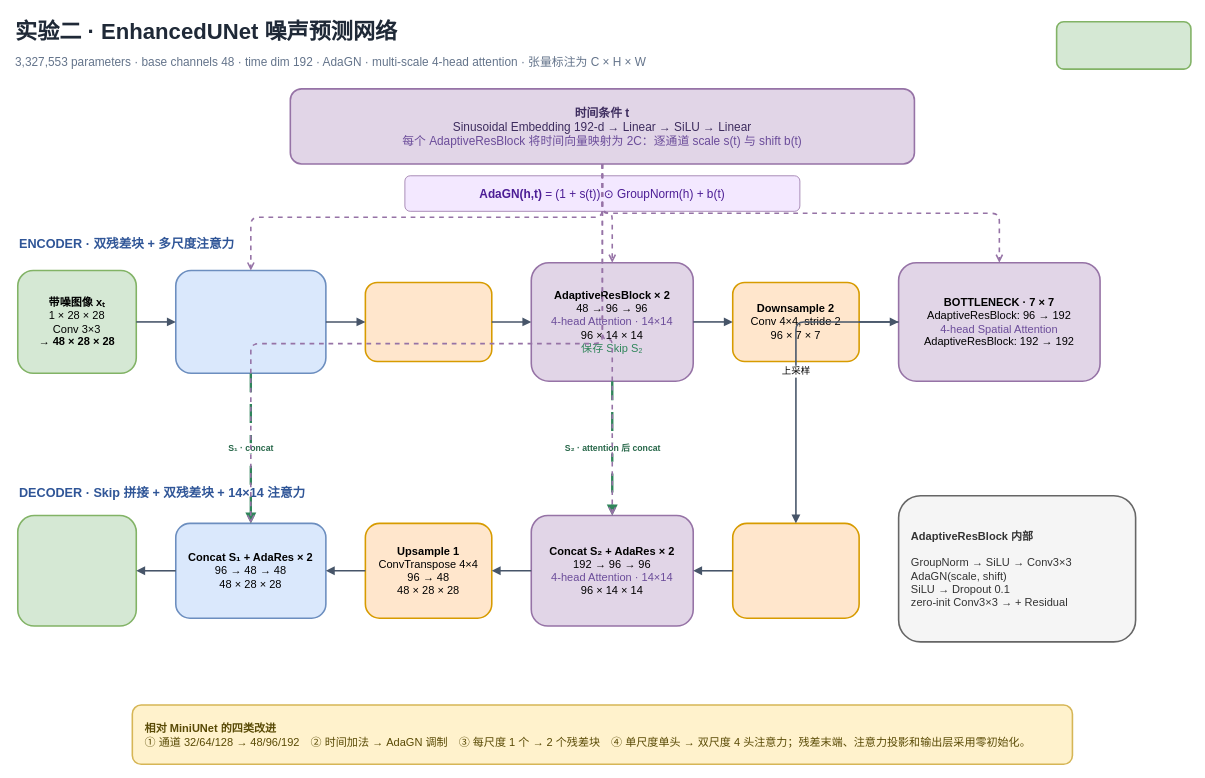
Some shapes in this 1205 by 778 pixel diagram are drawn without their labels. Here are the shapes that lost their labels. From the top down, the box of each, then its label:
(1055, 21, 1191, 70): 3.33M 论文启发改进
(175, 269, 326, 374): AdaptiveResBlock × 2 48 → 48 → 48 48 × 28 × 28 保存 Skip S₁
(364, 281, 492, 362): Downsample 1 Conv 4×4, stride 2 48 × 14 × 14
(17, 514, 137, 626): 预测噪声 εθ(xₜ,t) GroupNorm → SiLU zero-init Conv 3×3 → 1 × 28 × 28
(732, 522, 860, 619): Upsample 2 ConvTranspose 4×4 192 → 96 96 × 14 × 14
